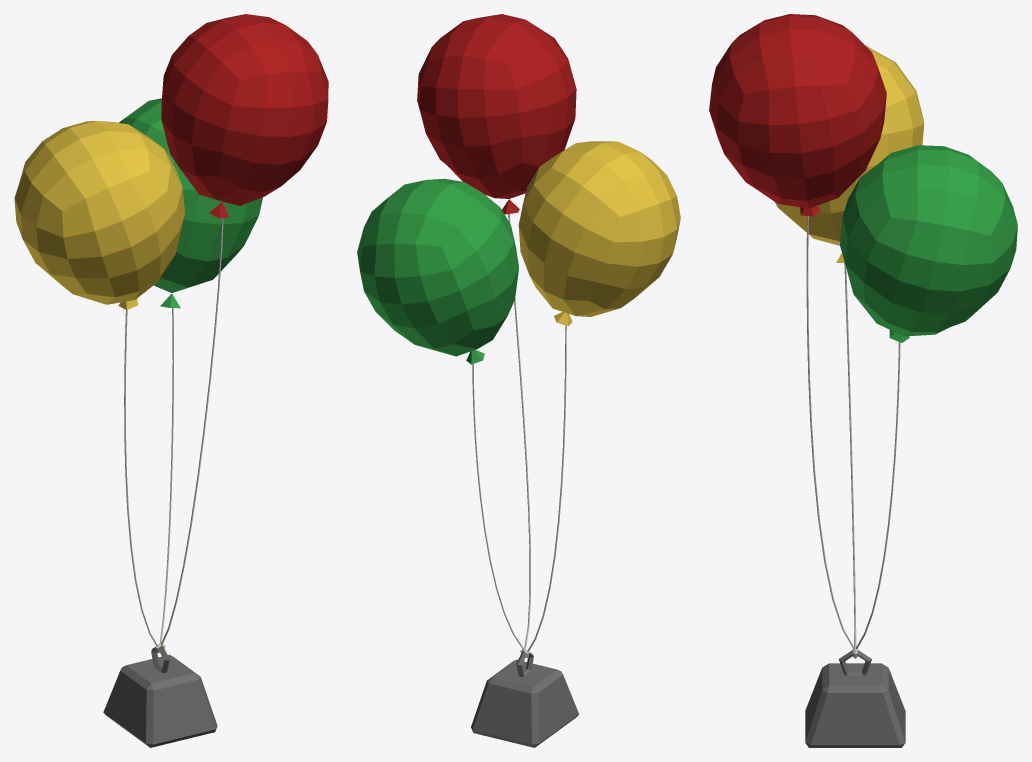
The model's file is Balloons.fbx.
3 renders of one model, left to right at view 1: azimuth 30°, elevation 25°; view 2: azimuth 150°, elevation 25°; view 3: azimuth 270°, elevation 25°, orthographic. The views are drawn at different scales.
Visible parts, largest first — view 1: Roundcube.001, Roundcube, Cube, Roundcube.002, BezierCurve.002, BezierCurve, BezierCurve.001; view 2: Roundcube.002, Roundcube.001, Roundcube, Cube, BezierCurve.002, BezierCurve, BezierCurve.001; view 3: Roundcube.001, Roundcube.002, Cube, Roundcube, BezierCurve.002, BezierCurve, BezierCurve.001.
Boxes of the visible parts, bbox=[...] form: Roundcube.001: bbox=[161, 14, 328, 218]; Roundcube: bbox=[14, 121, 184, 310]; Cube: bbox=[103, 646, 217, 747]; Roundcube.002: bbox=[119, 98, 262, 308]; BezierCurve.002: bbox=[161, 218, 223, 644]; BezierCurve: bbox=[124, 310, 157, 646]; BezierCurve.001: bbox=[159, 308, 173, 643]; Roundcube.002: bbox=[357, 178, 518, 364]; Roundcube.001: bbox=[417, 14, 576, 214]; Roundcube: bbox=[518, 141, 680, 326]; Cube: bbox=[471, 651, 578, 747]; BezierCurve.002: bbox=[508, 214, 530, 648]; BezierCurve: bbox=[527, 325, 566, 651]; BezierCurve.001: bbox=[472, 364, 524, 650]; Roundcube.001: bbox=[709, 14, 886, 216]; Roundcube.002: bbox=[840, 145, 1017, 342]; Cube: bbox=[805, 650, 905, 747]; Roundcube: bbox=[775, 45, 924, 262]; BezierCurve.002: bbox=[806, 216, 854, 648]; BezierCurve: bbox=[844, 263, 856, 647]; BezierCurve.001: bbox=[856, 342, 900, 649].
Size of the model in its own units: 62.26 by 66.54 by 164.
